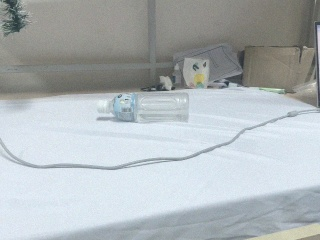bottle: (94, 88, 191, 126)
box: (240, 43, 317, 91)
